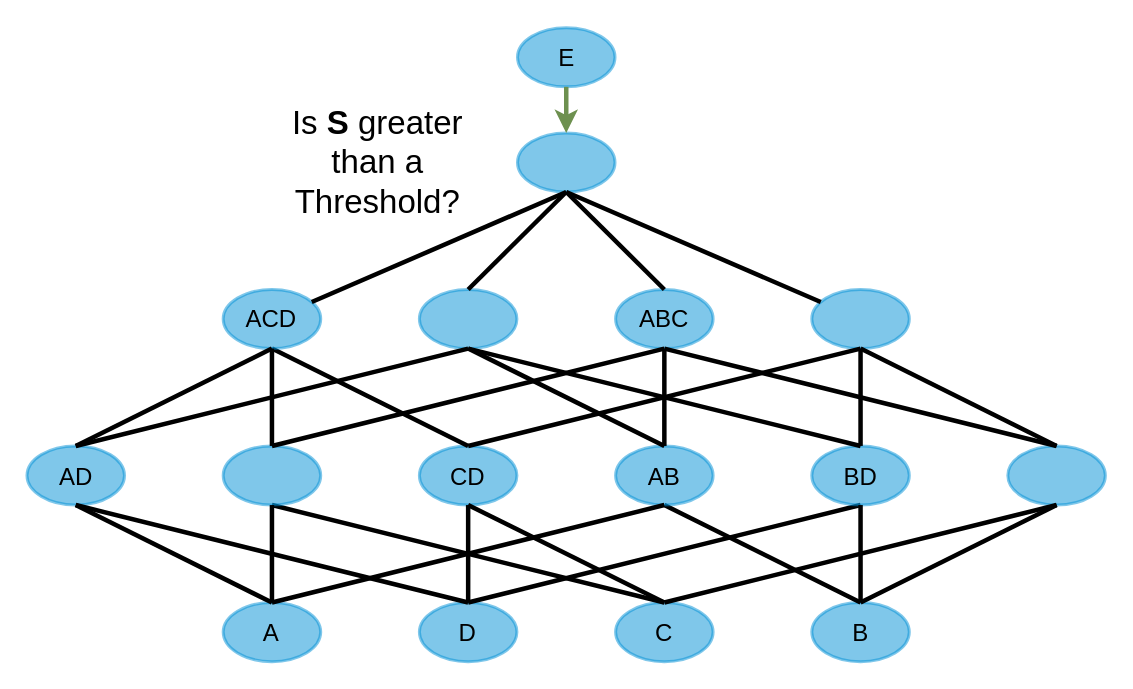
Some shapes in this 1133 by 689 pixel diagram are drawn without their labels. Each missing label, with the box of its shape:
ABCD: (515, 131, 616, 193)
ABD: (417, 287, 518, 349)
AC: (221, 444, 321, 506)
BC: (1006, 444, 1106, 506)
BCD: (810, 287, 910, 349)
